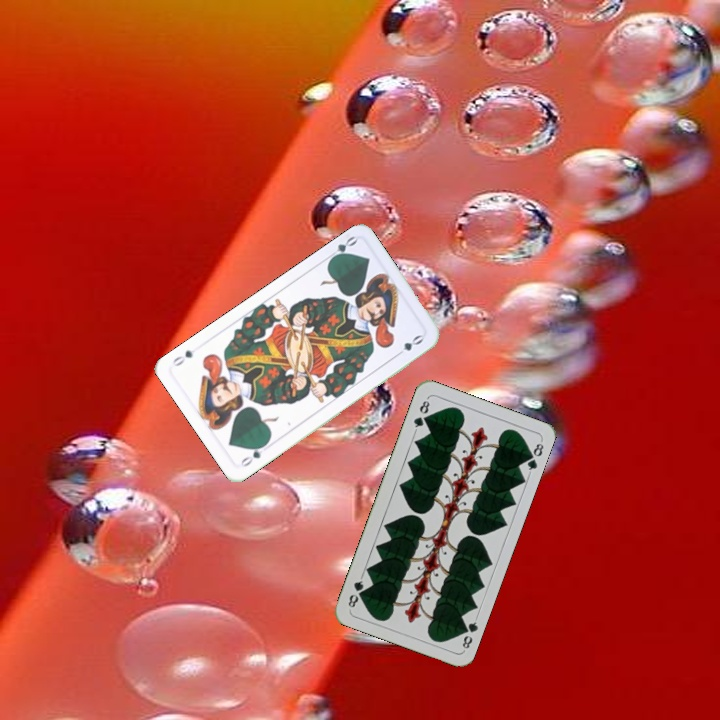G8: (409, 394, 432, 434), (457, 614, 481, 651)
GO: (323, 232, 360, 264), (237, 439, 270, 470)
